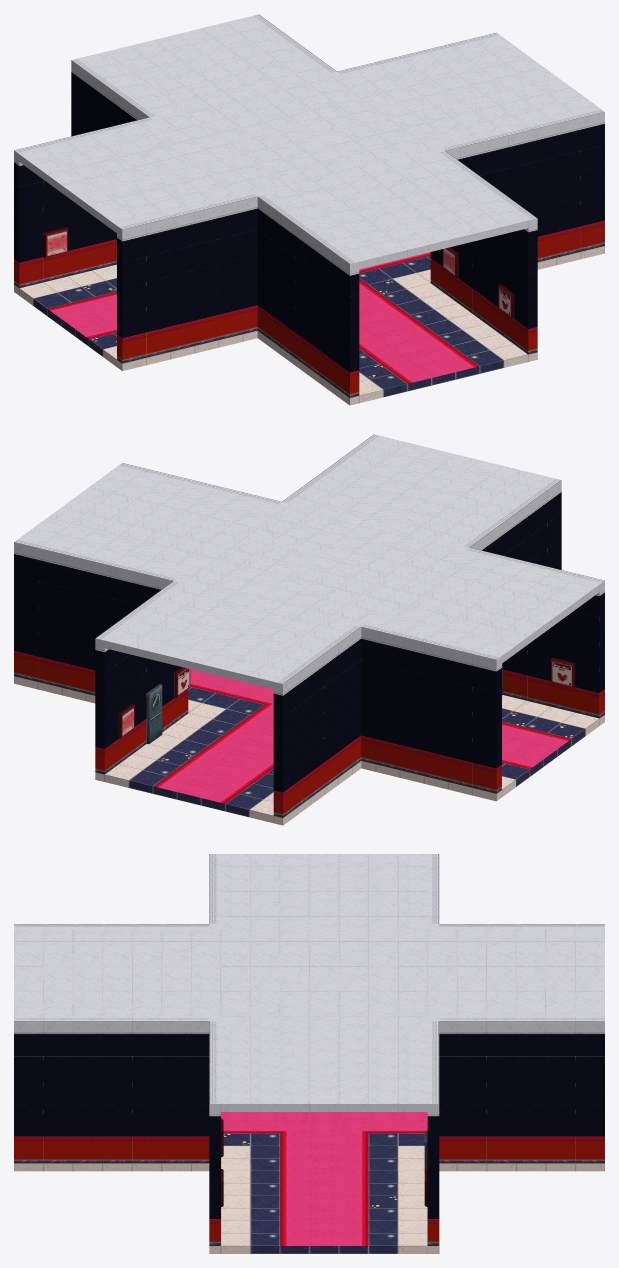
The model's file is CinemaIntersectionCelling.fbx.
3 renders of one model, top to bottom at view 1: azimuth 30°, elevation 25°; view 2: azimuth 150°, elevation 25°; view 3: azimuth 270°, elevation 25°, orthographic. The views are drawn at different scales.
Visible parts, largest first — view 1: Intersection; view 2: Intersection; view 3: Intersection.
Boxes of the visible parts, x1,y1,x2,y2 form: Intersection: (14, 14, 604, 405); Intersection: (14, 434, 604, 825); Intersection: (14, 854, 604, 1253).
Size of the model in its own units: 2000 by 560 by 2000.
